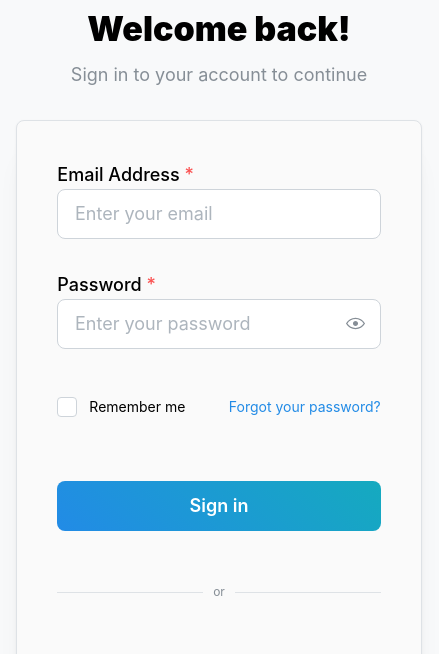
Login Form E2E Tests › should show validation error for short password
Enter valid email but short password
In the field with placeholder "Enter your email": [219, 214] box [57,189,380,239], type "user@example.com"
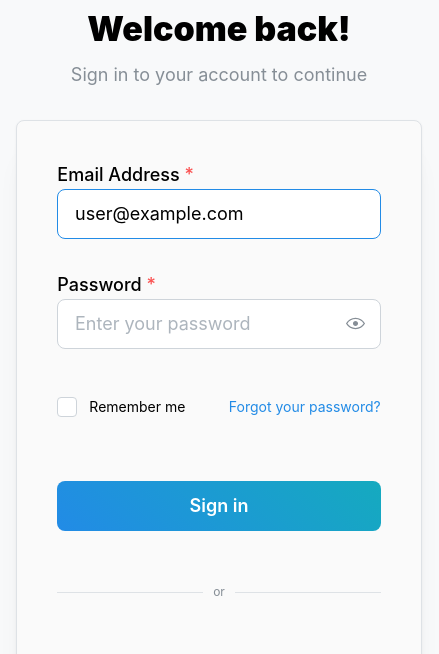
In the password field with placeholder "Enter your password": [219, 324] box [58,300,379,348], type "12345"
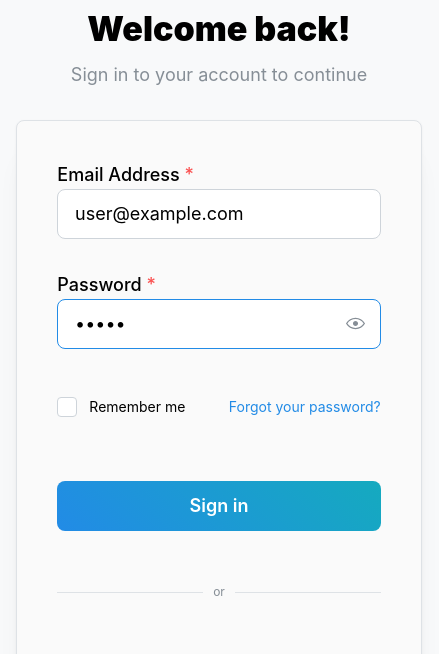
Click the submit button: [219, 506] box [57,481,380,531]
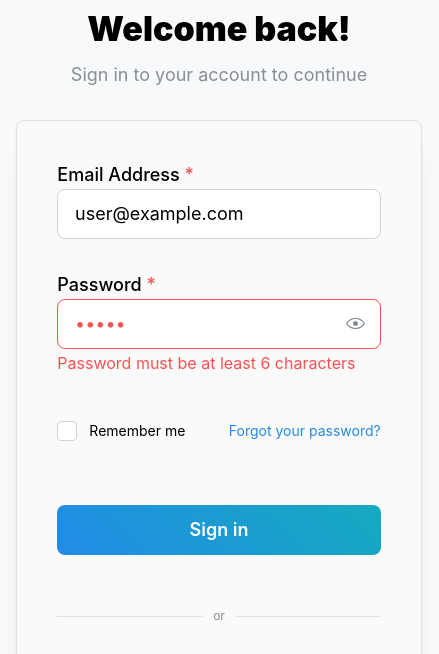
Now the text "Password must be at least 6 characters" is shown, box [57,354,381,373]
